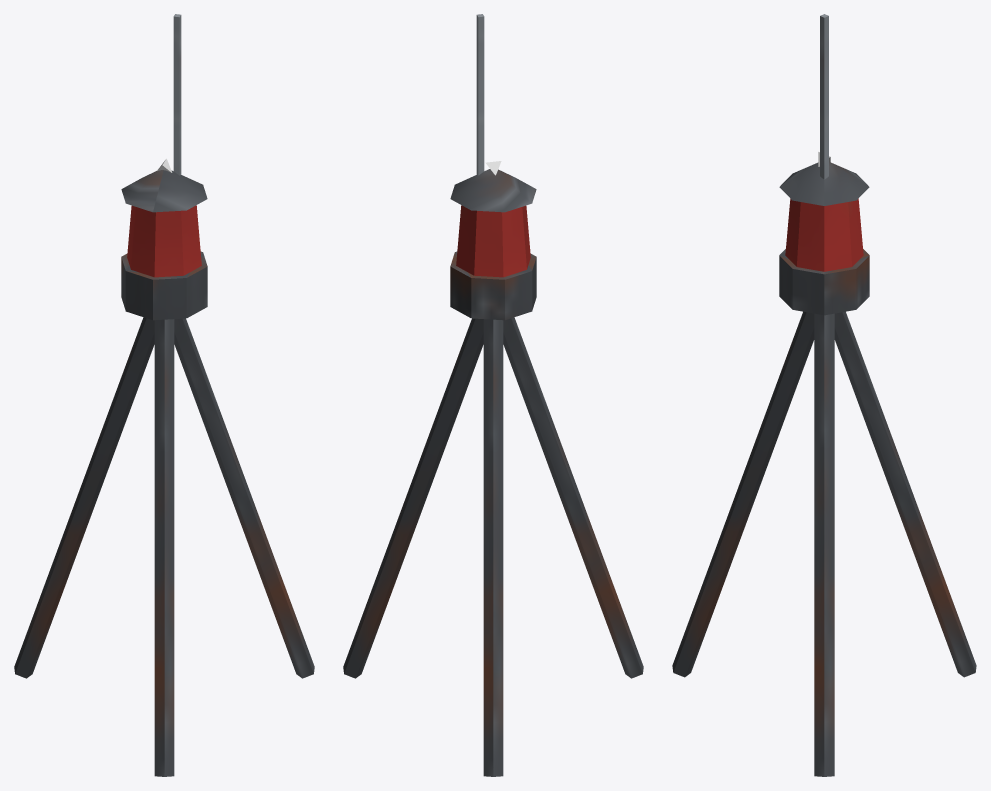
Rendered from SM_Beacon.fbx.
3 views of the same model, side by side, from view 1: azimuth 30°, elevation 25°; view 2: azimuth 150°, elevation 25°; view 3: azimuth 270°, elevation 25° (orthographic).
Parts seen in each view (by area): view 1: SM_Beacon; view 2: SM_Beacon; view 3: SM_Beacon.
Boxes of the visible parts, <box> form: SM_Beacon: <box>14,14,314,776</box>; SM_Beacon: <box>343,14,643,776</box>; SM_Beacon: <box>672,14,976,776</box>.
Size of the model in its own units: 1.78 by 5.12 by 2.02.
Materials: 1 (1 with a texture image).
